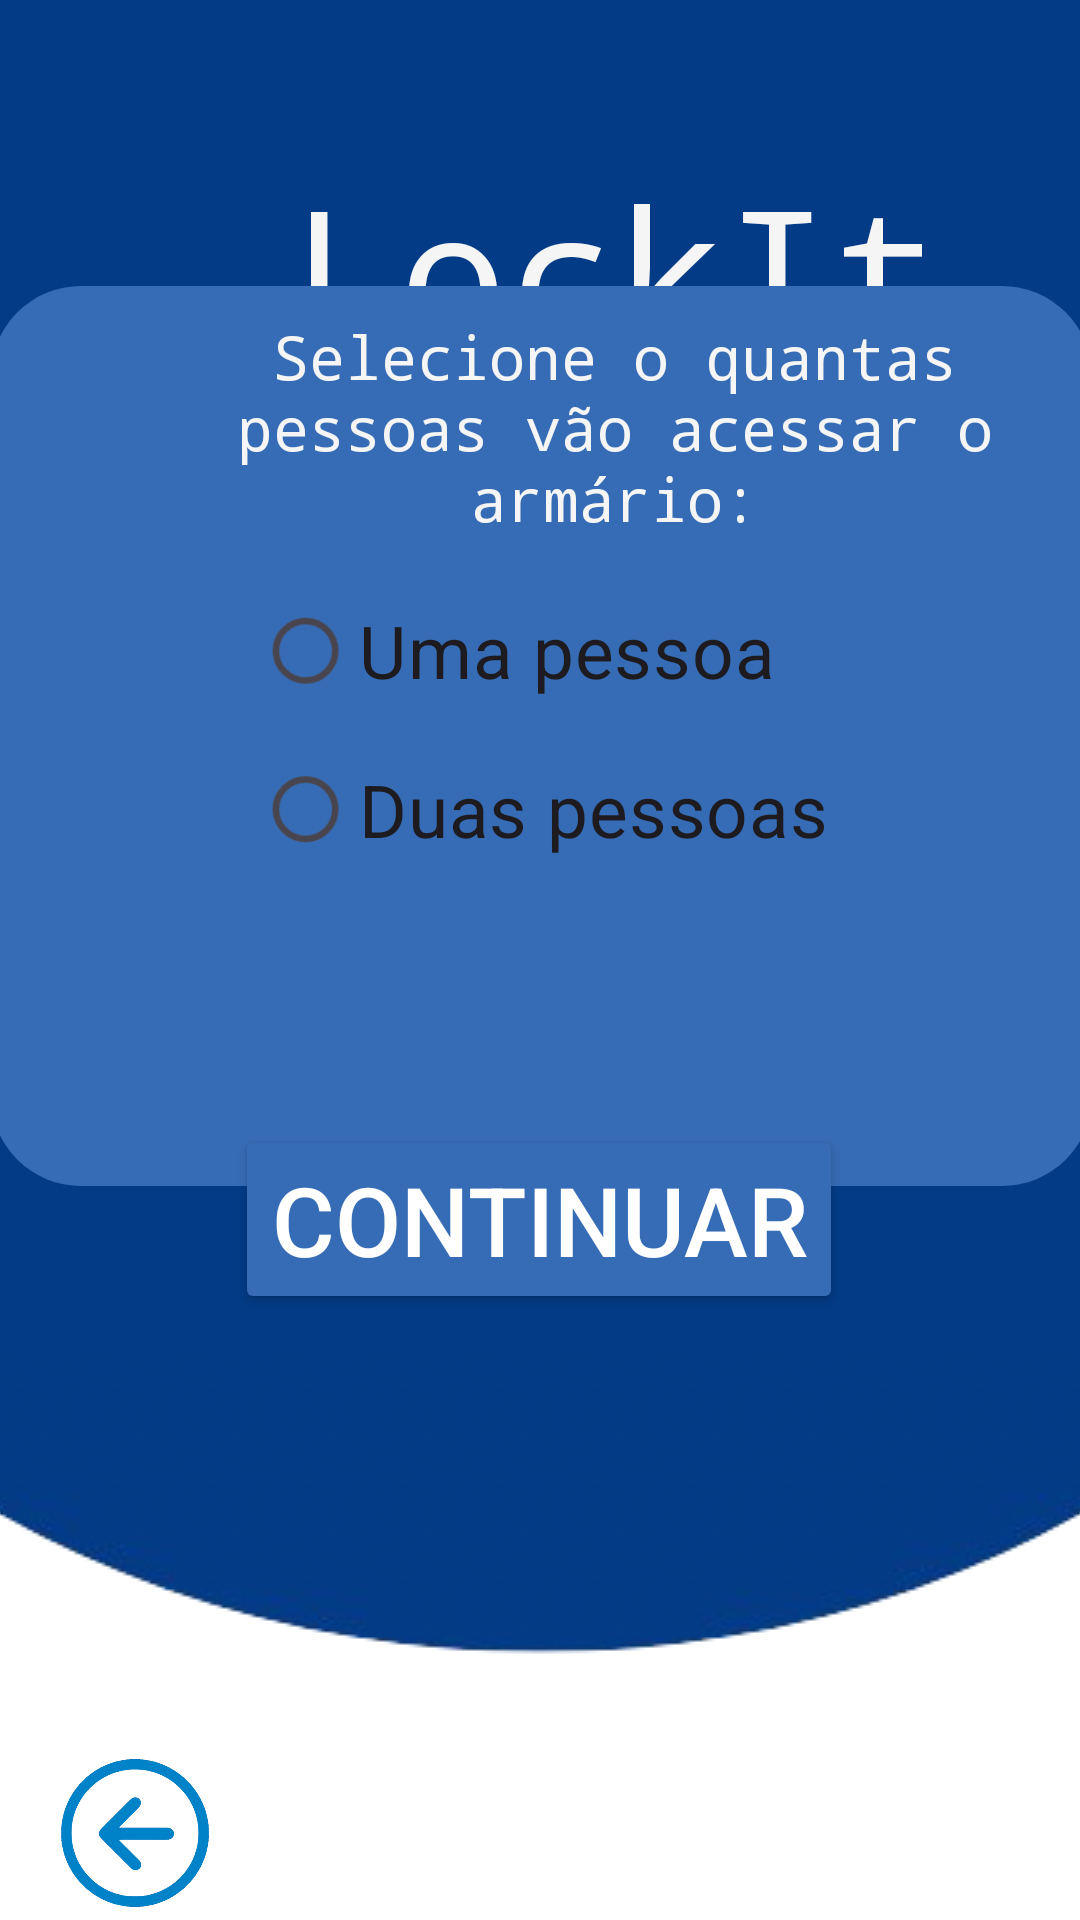

Icon click points for this 1080*1920 phone screenshot, format [x,y]:
seta voltar: [135,1833]
